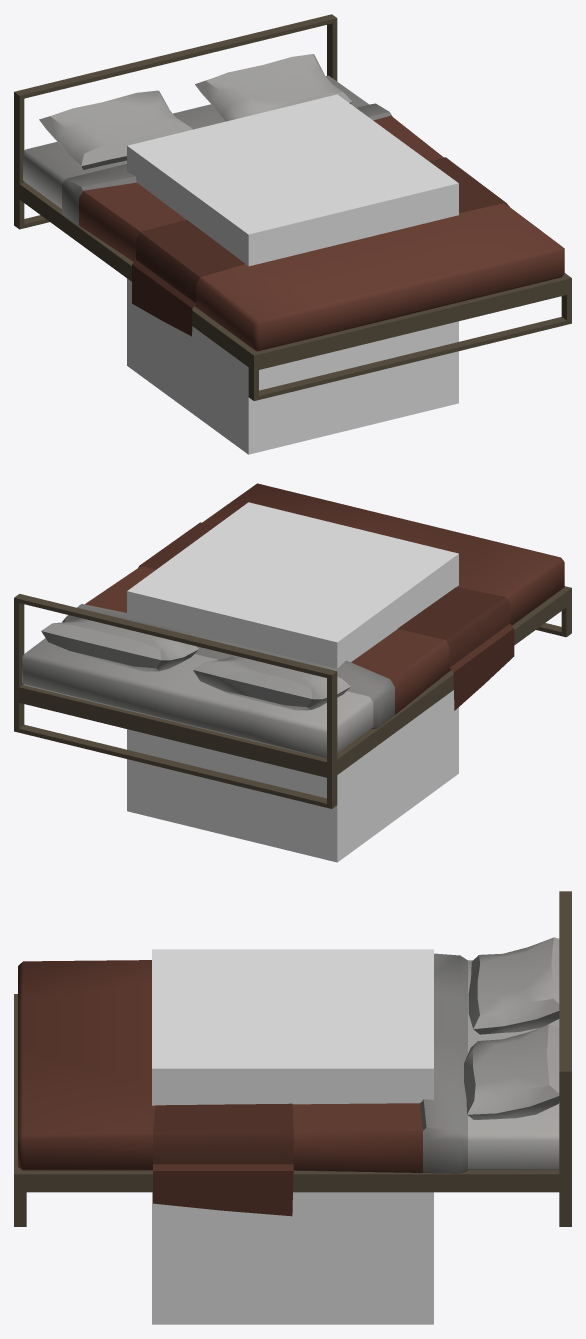
File: Bed_King.glb
3 renders of one model, top to bottom at view 1: azimuth 30°, elevation 25°; view 2: azimuth 150°, elevation 25°; view 3: azimuth 270°, elevation 25°, orthographic. The views are drawn at different scales.
Visible parts, largest first — view 1: Bed_King_Cube.042, Cube; view 2: Bed_King_Cube.042, Cube; view 3: Bed_King_Cube.042, Cube.
Part boxes in pixels (box(x1,y1,x2,y2)): Bed_King_Cube.042: box(14, 14, 571, 400); Cube: box(127, 94, 458, 454); Bed_King_Cube.042: box(14, 483, 571, 808); Cube: box(127, 502, 458, 862); Bed_King_Cube.042: box(14, 891, 571, 1226); Cube: box(152, 949, 433, 1324).
Size of the model in its own units: 3.06 by 2.21 by 3.95.
